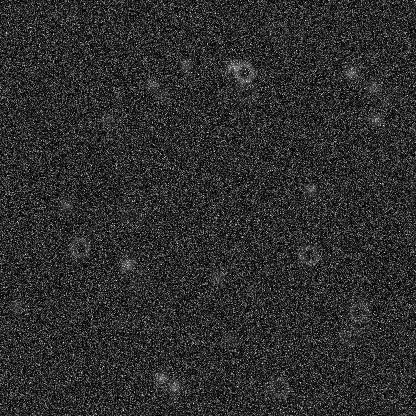Ring: (266, 19, 290, 43), (346, 300, 370, 324), (232, 60, 256, 84), (129, 267, 153, 291), (121, 205, 145, 229), (234, 80, 258, 104), (337, 323, 361, 347), (296, 242, 320, 266), (266, 375, 290, 399), (67, 235, 91, 259)
Spot: (376, 91, 392, 107), (57, 197, 73, 213), (166, 379, 182, 395), (210, 269, 226, 285), (111, 312, 127, 328), (178, 56, 194, 72), (98, 112, 114, 128), (156, 86, 172, 102), (364, 78, 380, 94), (302, 181, 318, 197), (7, 296, 23, 312), (343, 64, 359, 80), (224, 57, 240, 73), (184, 330, 200, 346), (368, 111, 384, 127), (153, 369, 169, 385), (118, 255, 134, 271), (222, 331, 238, 347), (143, 76, 159, 92)
